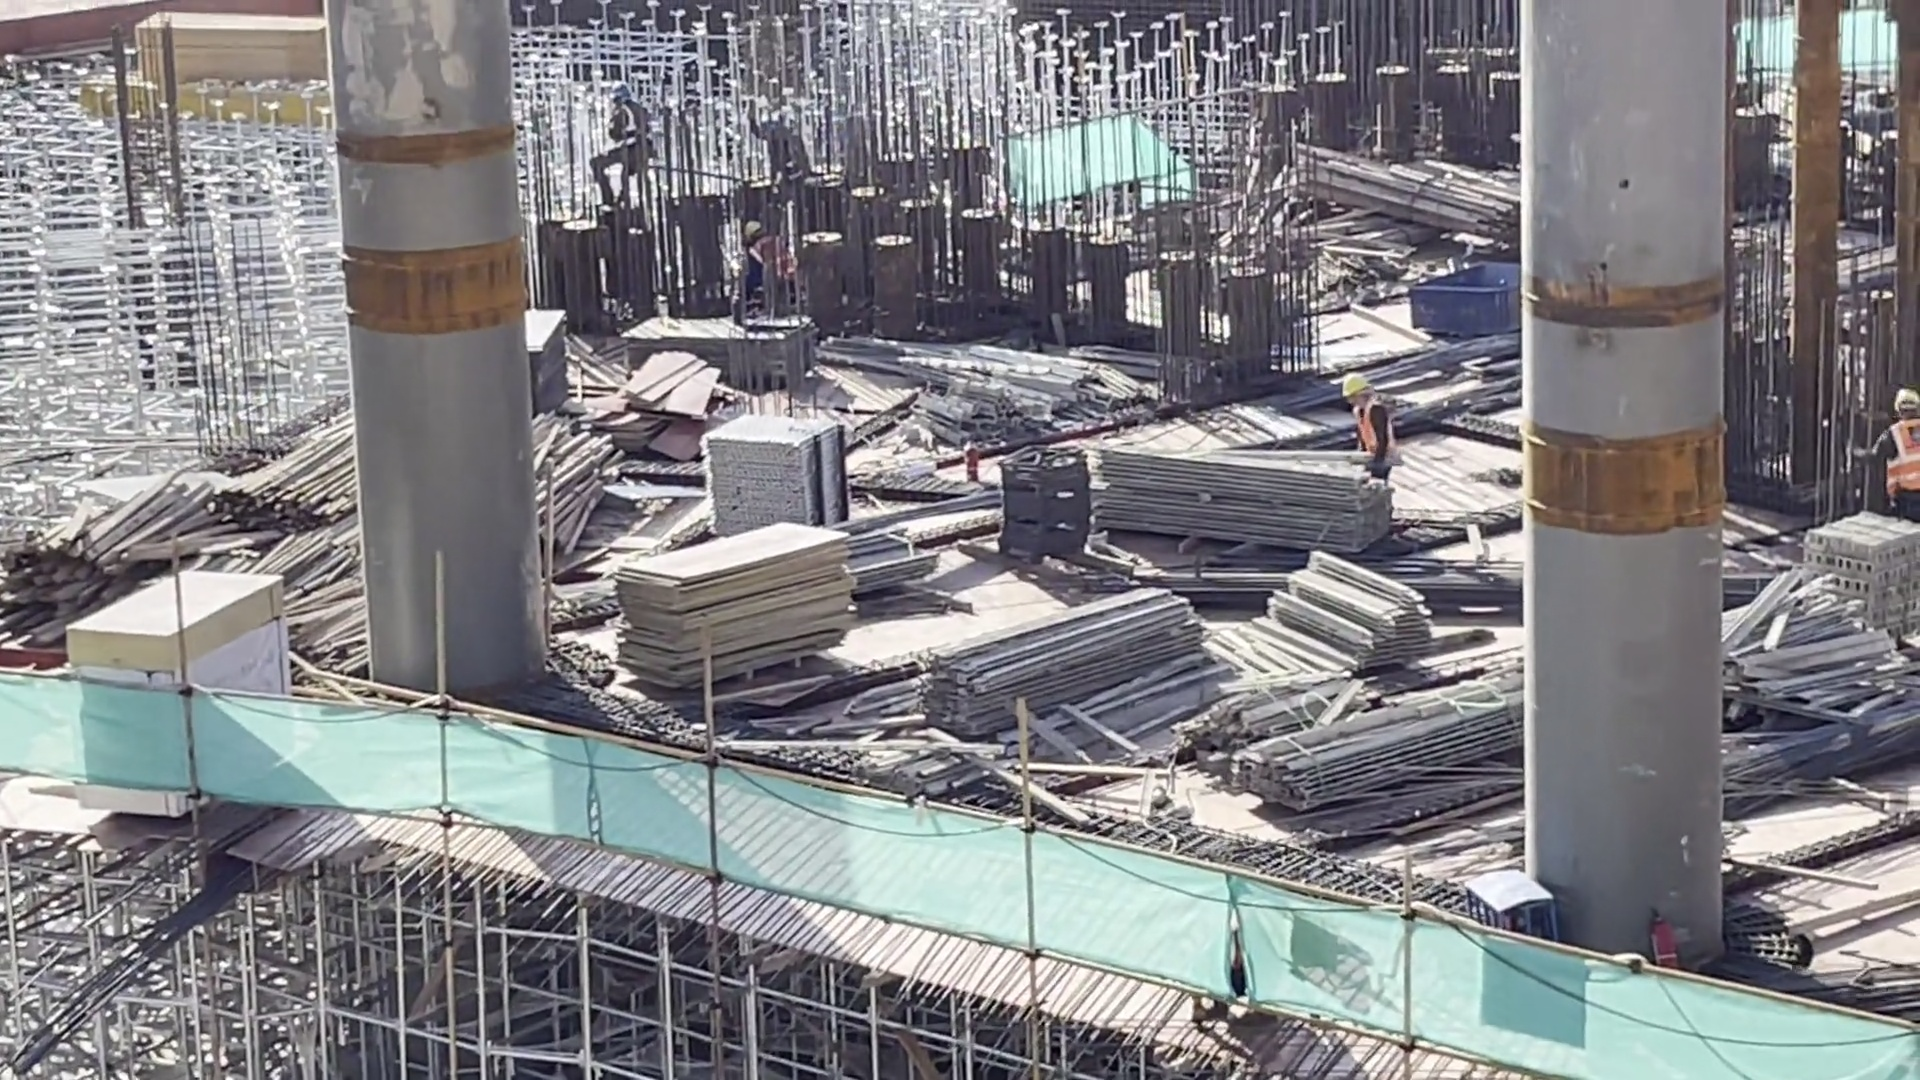board: (617, 522, 852, 693)
ebox: (70, 532, 297, 828)
helmet: (600, 64, 633, 100), (1341, 368, 1366, 401), (740, 213, 764, 242), (1899, 380, 1920, 411)
hopper: (1400, 237, 1530, 345)
person: (1334, 358, 1392, 505), (1867, 375, 1920, 526), (597, 79, 659, 204), (728, 217, 796, 327)
scaffold: (692, 397, 849, 537)
vest: (1889, 415, 1920, 486), (733, 232, 774, 280), (1348, 398, 1380, 458), (603, 102, 643, 143)
wood: (1088, 420, 1400, 569), (918, 580, 1193, 739), (1240, 675, 1529, 816), (1275, 553, 1432, 683)
